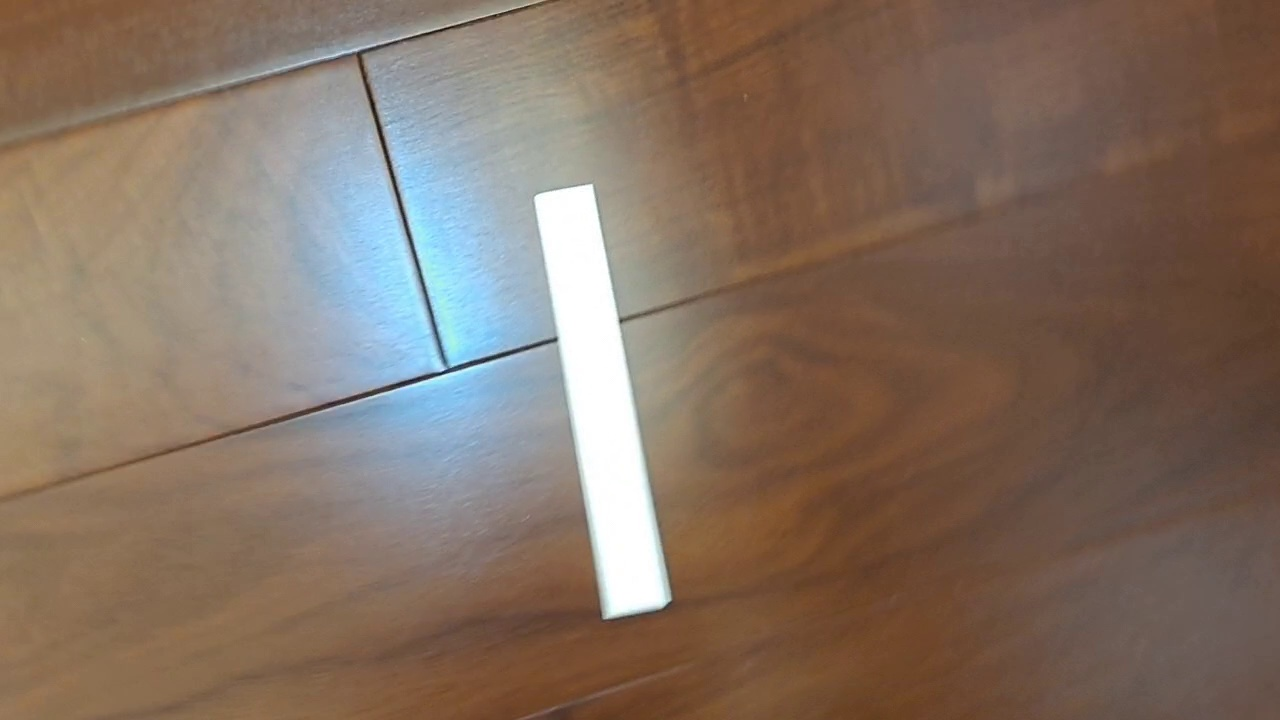ruler: (532, 182, 674, 622)
